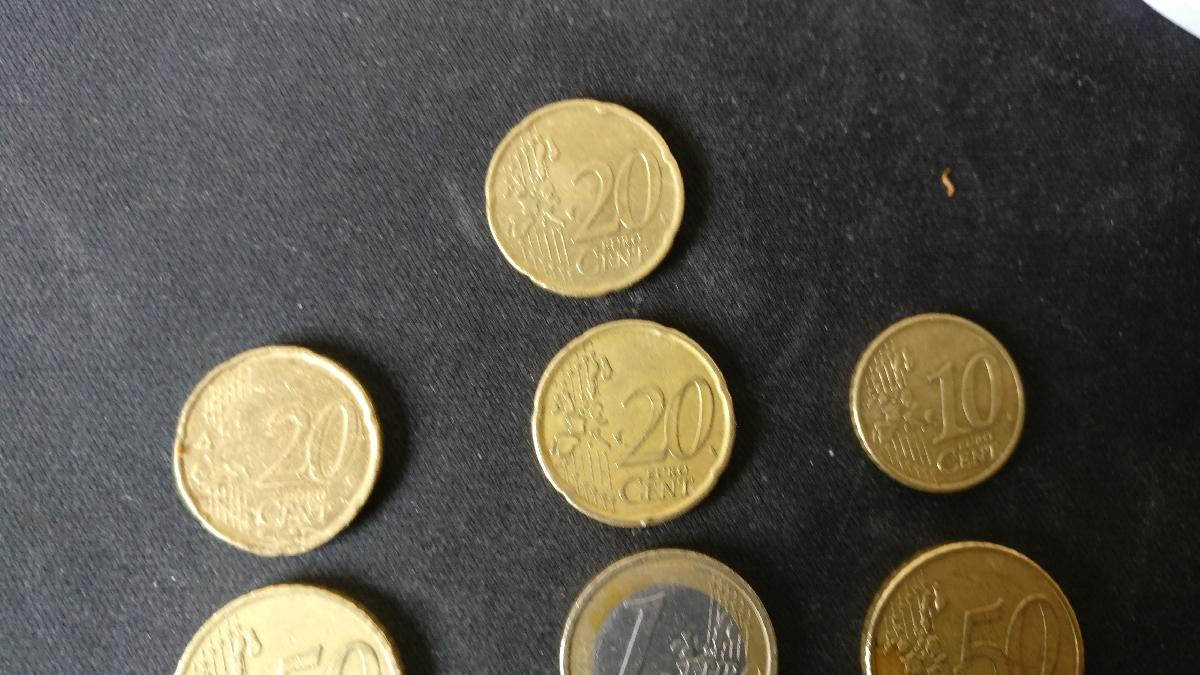Fifty Cent: (861, 542, 1086, 675), (173, 582, 404, 675)
One Euro: (557, 543, 782, 675)
Ten Cent: (848, 313, 1026, 496)
Twenty Cent: (173, 344, 386, 556), (532, 318, 734, 528), (482, 98, 689, 301)
